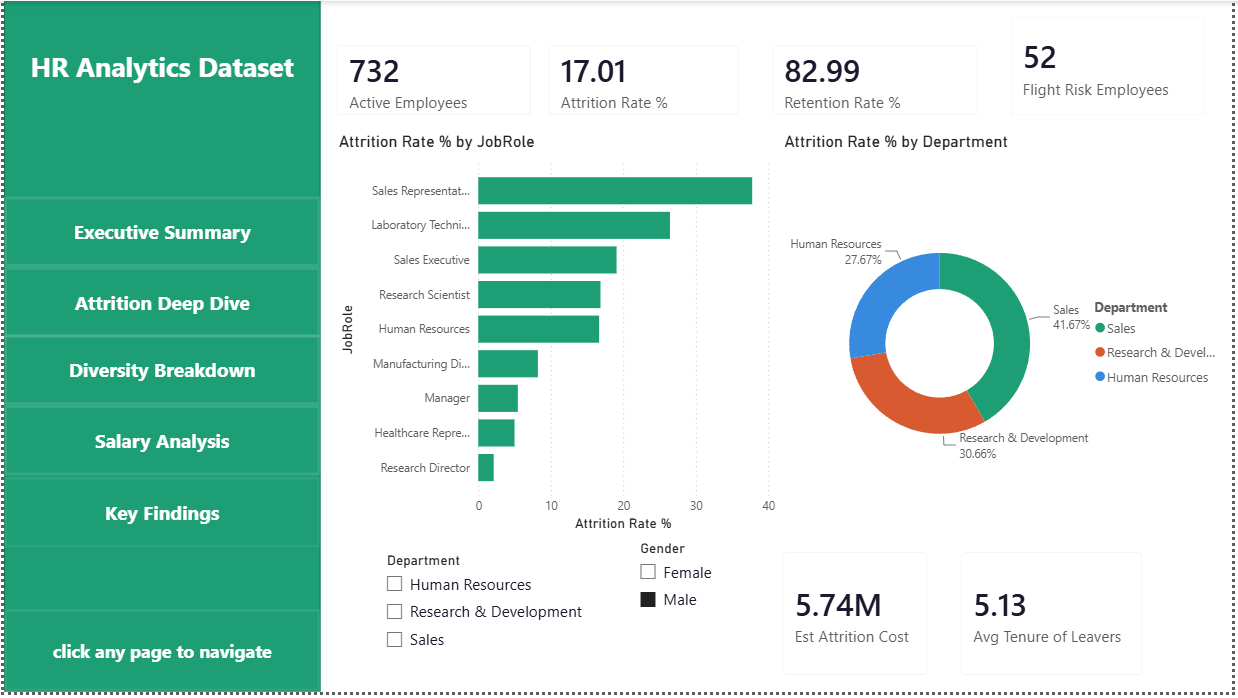

This screenshot's page, from the dashboard's own definition file:
{"tool":"powerbi","page":{"name":"Executive Summary","canvas":[1280,720],"ordinal":0},"visuals":[{"type":"cardVisual","fields":{"Data":["_Measures (2).Active Employees"]},"box":[329.8,29.7,236,107.8],"z":0},{"type":"cardVisual","fields":{"Data":["_Measures (2).Attrition Rate %"]},"box":[550.2,29.7,232.9,107.8],"z":1000},{"type":"cardVisual","fields":{"Data":["_Measures (2).Retention Rate %"]},"box":[783.1,29.7,248.5,107.8],"z":2000},{"type":"donutChart","fields":{"Category":["Employee_JobInfo.Department"],"Y":["_Measures (2).Attrition Rate %"]},"box":[808.1,137.5,472,420.4],"z":4000},{"type":"clusteredBarChart","fields":{"Category":["Employee_JobInfo.JobRole"],"Y":["_Measures (2).Attrition Rate %"]},"box":[343.9,137.5,464.2,420.4],"z":5000},{"type":"slicer","fields":{"Values":["Employee_JobInfo.Department"]},"box":[386.1,570.5,229.8,150],"z":6000},{"type":"slicer","fields":{"Values":["Employee_Demographics.Gender"]},"box":[650.2,558,143.8,120.4],"z":7000},{"type":"shape","box":[0,0,329.8,720.5],"z":8000},{"type":"actionButton","box":[0,204.8,329.8,73.5],"z":9000},{"type":"actionButton","box":[0,278.2,329.8,73.5],"z":10000},{"type":"actionButton","box":[0,348.5,329.8,73.5],"z":11000},{"type":"actionButton","box":[0,422,329.8,73.5],"z":12000},{"type":"actionButton","box":[0,0,329.8,137.5],"z":13000},{"type":"actionButton","box":[0,634.6,329.8,86],"z":14000},{"type":"actionButton","box":[0,497,329.8,73.5],"z":15000},{"type":"cardVisual","fields":{"Data":["_Measures (2).Est Attrition Cost"]},"box":[794,558,186,162.6],"z":15001},{"type":"cardVisual","fields":{"Data":["_Measures (2).Flight Risk Employees"]},"box":[1031.6,0,236,137.5],"z":15002},{"type":"cardVisual","fields":{"Data":["_Measures (2).Avg Tenure of Leavers"]},"box":[980,558,223.5,162.6],"z":15003}]}

Visuals, with their boxes in screenshot pixels (x1, y1, x2, y2), scaled from the page's 1280x720 canvas onto the 1238x698 screenshot:
cardVisual - _Measures (2).Active Employees: (x1=319, y1=29, x2=547, y2=133)
cardVisual - _Measures (2).Attrition Rate %: (x1=532, y1=29, x2=757, y2=133)
cardVisual - _Measures (2).Retention Rate %: (x1=757, y1=29, x2=998, y2=133)
donutChart - Employee_JobInfo.Department x _Measures (2).Attrition Rate %: (x1=782, y1=133, x2=1237, y2=541)
clusteredBarChart - Employee_JobInfo.JobRole x _Measures (2).Attrition Rate %: (x1=333, y1=133, x2=782, y2=541)
slicer - Employee_JobInfo.Department: (x1=373, y1=553, x2=596, y2=697)
slicer - Employee_Demographics.Gender: (x1=629, y1=541, x2=768, y2=658)
shape: (x1=0, y1=0, x2=319, y2=697)
actionButton: (x1=0, y1=199, x2=319, y2=270)
actionButton: (x1=0, y1=270, x2=319, y2=341)
actionButton: (x1=0, y1=338, x2=319, y2=409)
actionButton: (x1=0, y1=409, x2=319, y2=480)
actionButton: (x1=0, y1=0, x2=319, y2=133)
actionButton: (x1=0, y1=615, x2=319, y2=697)
actionButton: (x1=0, y1=482, x2=319, y2=553)
cardVisual - _Measures (2).Est Attrition Cost: (x1=768, y1=541, x2=948, y2=697)
cardVisual - _Measures (2).Flight Risk Employees: (x1=998, y1=0, x2=1226, y2=133)
cardVisual - _Measures (2).Avg Tenure of Leavers: (x1=948, y1=541, x2=1164, y2=697)
